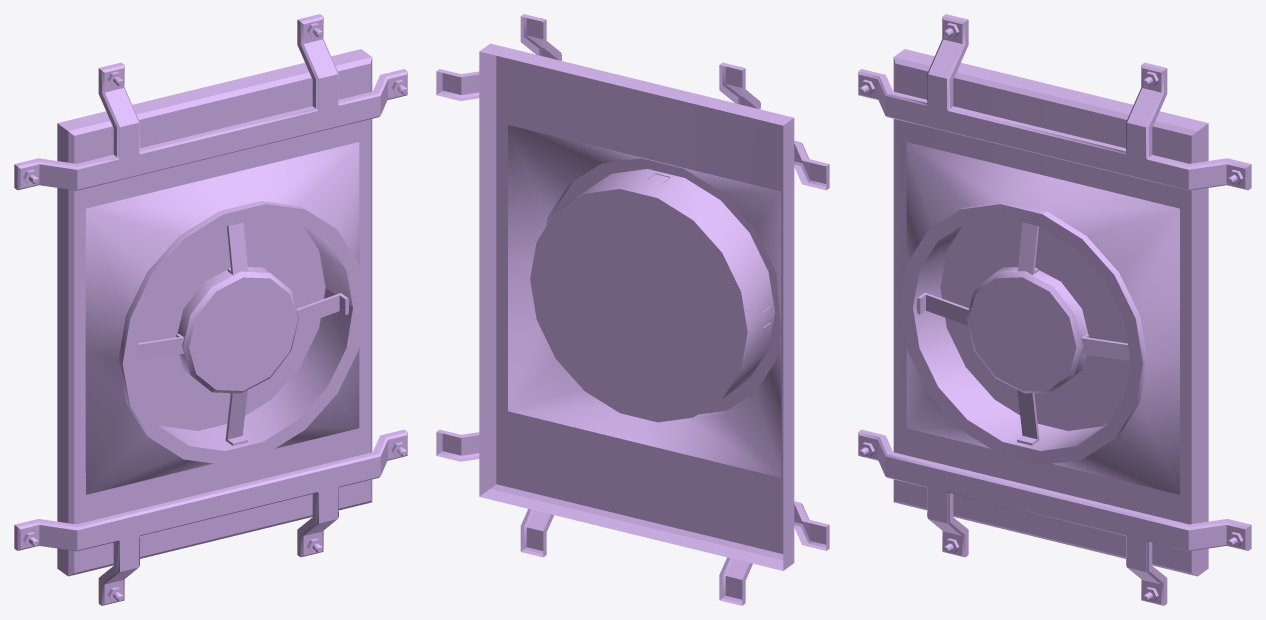
Rendered from fan1.fbx.
3 renders of one model, left to right at view 1: azimuth 30°, elevation 25°; view 2: azimuth 150°, elevation 25°; view 3: azimuth 330°, elevation 25°, orthographic.
Visible parts, largest first — view 1: AA_Props_Fan01_Smesh; view 2: AA_Props_Fan01_Smesh; view 3: AA_Props_Fan01_Smesh.
Boxes of the visible parts, bbox=[...] form: AA_Props_Fan01_Smesh: bbox=[14, 14, 407, 605]; AA_Props_Fan01_Smesh: bbox=[436, 14, 829, 605]; AA_Props_Fan01_Smesh: bbox=[858, 14, 1251, 605].
Bounding box in the file's own units: 223 × 292 × 34.79.
